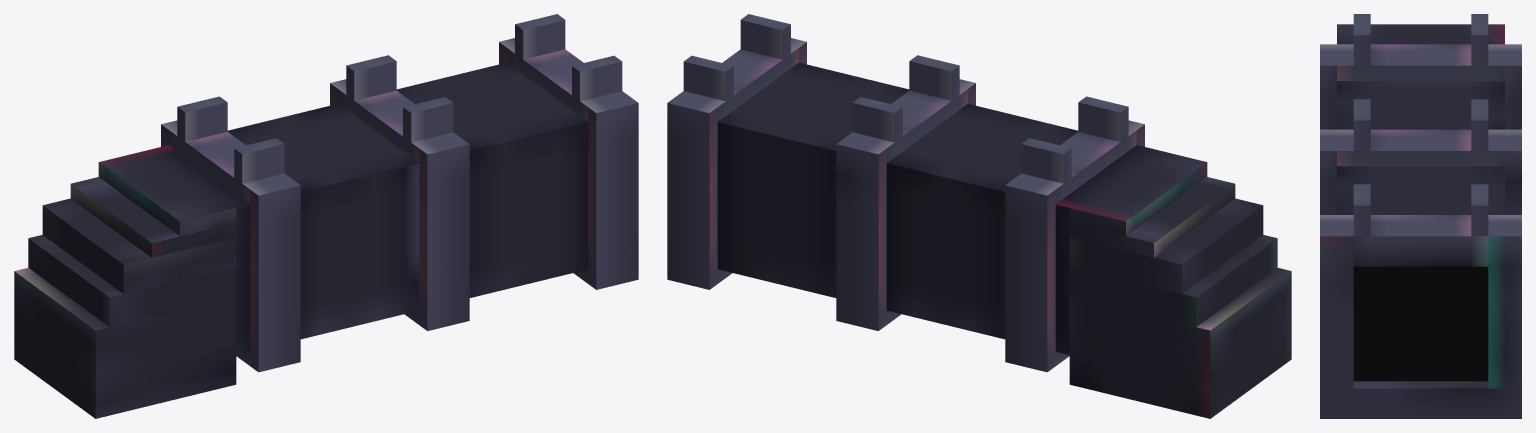
The model's file is Vent_Module_K_00.fbx.
3 views of the same model, side by side, from view 1: azimuth 30°, elevation 25°; view 2: azimuth 150°, elevation 25°; view 3: azimuth 270°, elevation 25° (orthographic). The views are drawn at different scales.
Visible parts, largest first — view 1: Vent_Module_K_00; view 2: Vent_Module_K_00; view 3: Vent_Module_K_00.
Part boxes in pixels (x1,y1,x2,y2): Vent_Module_K_00: (14,14,638,418); Vent_Module_K_00: (667,14,1291,418); Vent_Module_K_00: (1320,14,1521,418).
Bounding box in the file's own units: 190 × 75 × 60.
